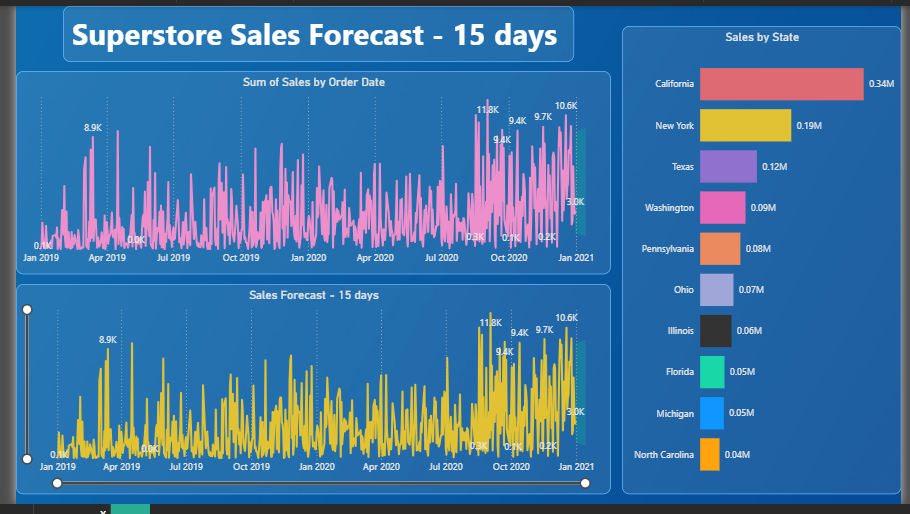

Layout of this report page (visuals, bound fields, positions):
{"tool":"powerbi","page":{"name":"Page 2","canvas":[1280,720],"ordinal":1},"visuals":[{"type":"lineChart","fields":{"Y":["Sum(Superstore_sales.Sales)"],"Category":["Superstore_sales.Order Date"]},"box":[0,94,859.6,293.9],"z":0},{"type":"lineChart","title":"Sales Forecast - 15 days","fields":{"Y":["Sum(Superstore_sales.Sales)"],"Category":["Superstore_sales.Order Date"]},"box":[0,402.6,859.6,304.2],"z":1000},{"type":"barChart","title":"Sales by State","fields":{"Y":["Sum(Superstore_sales.Sales)"],"Category":["Superstore_sales.State"]},"box":[875.8,29.4,404.1,677.4],"z":2000},{"type":"textbox","box":[67.6,0,739.1,80.8],"z":3000}]}

Visuals, with their boxes in screenshot pixels (x1, y1, x2, y2), scaled from the page's 1280x720 canvas onto the 910x514 screenshot:
lineChart - Sum(Superstore_sales.Sales) x Superstore_sales.Order Date: bbox(0, 67, 611, 277)
"Sales Forecast - 15 days" lineChart: bbox(0, 287, 611, 505)
"Sales by State" barChart: bbox(623, 21, 909, 505)
textbox: bbox(48, 0, 574, 58)
